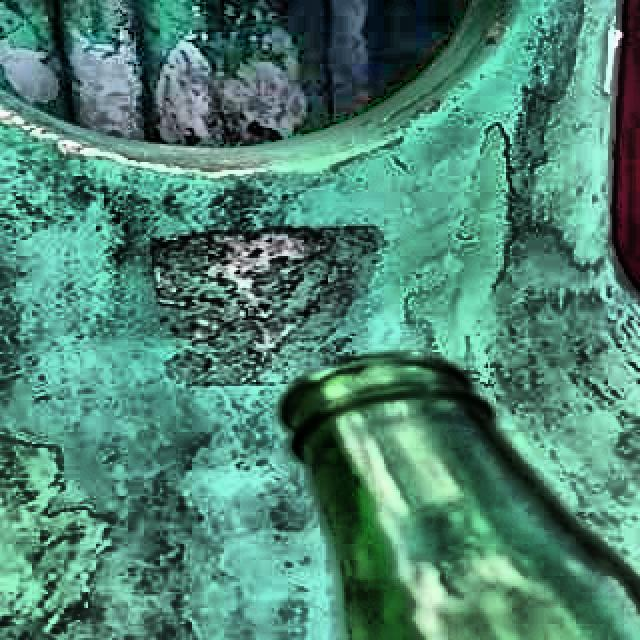glass: (283, 357, 640, 640)
